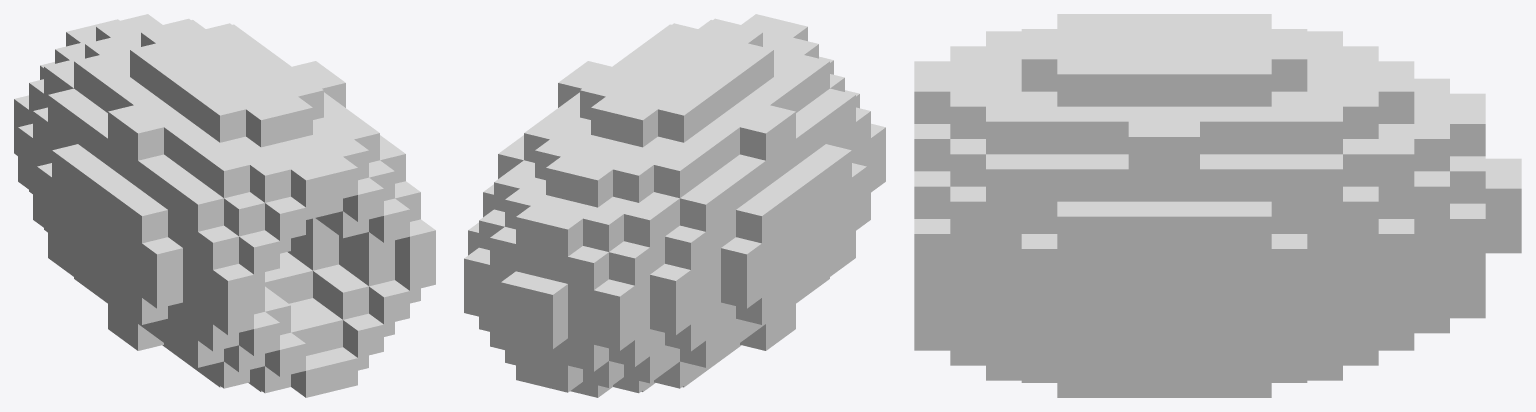
Rendered from ArrowMetra.obj.
3 renders of one model, left to right at view 1: azimuth 30°, elevation 25°; view 2: azimuth 150°, elevation 25°; view 3: azimuth 270°, elevation 25°, orthographic. The views are drawn at different scales.
Size of the model in its own units: 1 by 1 by 1.7.
1 material, 1 textured.
